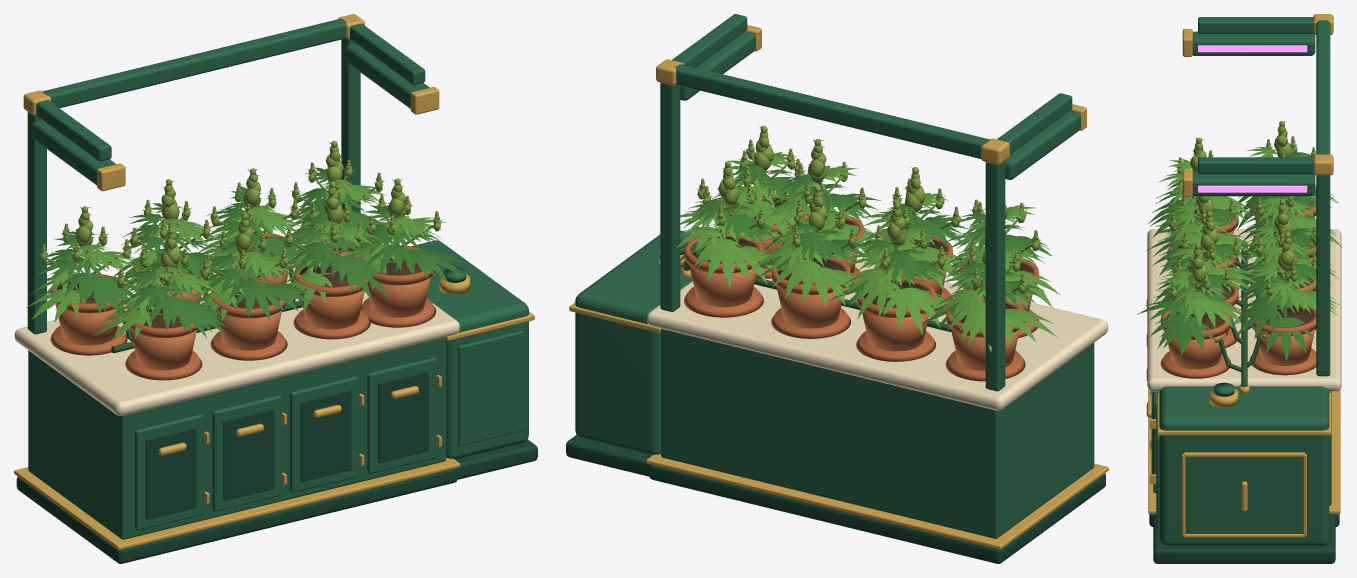
The model's file is grow_bench_tier2.glb.
The picture shows the model from 3 angles, left to right: view 1: azimuth 30°, elevation 25°; view 2: azimuth 150°, elevation 25°; view 3: azimuth 270°, elevation 25°; orthographic projection. The views are drawn at different scales.
Visible parts, largest first — view 1: Body, Top, Tank, TankFront, Plinth, Beam, PlinthBrass, DrawerInset2, DrawerInset0, DrawerInset1, DrawerInset3, Post-1.04 (+34 smaller); view 2: Body, Top, Tank, Plinth, Beam, PlinthBrass, Post-1.04, Post0.60, LightBar-1.04, P3Pot, P2Pot, P1Pot (+18 smaller); view 3: Tank, TankDoor, Top, TankPlinth, Post0.60, LightBar0.60, Arm0.60, LightBar-1.04, Beam, Arm-1.04, PlinthBrass, P7Pot (+39 smaller).
Boxes of the visible parts, x1,y1,x2,y2 form: Body: [28, 337, 446, 539]; Top: [14, 264, 459, 415]; Tank: [411, 240, 528, 459]; TankFront: [458, 331, 523, 446]; Plinth: [16, 468, 457, 563]; Beam: [42, 18, 346, 108]; PlinthBrass: [14, 458, 460, 550]; DrawerInset2: [300, 390, 351, 481]; DrawerInset0: [145, 427, 196, 519]; DrawerInset1: [223, 408, 274, 500]; DrawerInset3: [378, 371, 428, 462]; Post-1.04: [27, 112, 46, 334]; Body: [661, 328, 1094, 538]; Top: [647, 260, 1108, 410]; Tank: [575, 230, 692, 455]; Plinth: [649, 464, 1105, 563]; Beam: [675, 64, 990, 158]; PlinthBrass: [646, 454, 1108, 549]; Post-1.04: [985, 161, 1005, 391]; Post0.60: [660, 82, 680, 311]; LightBar-1.04: [1005, 110, 1080, 179]; P3Pot: [689, 265, 756, 307]; P2Pot: [776, 287, 845, 328]; P1Pot: [862, 311, 928, 351]; Tank: [1159, 386, 1329, 546]; TankDoor: [1185, 457, 1303, 533]; Top: [1147, 229, 1341, 391]; TankPlinth: [1153, 514, 1335, 563]; Post0.60: [1316, 175, 1330, 376]; LightBar0.60: [1192, 172, 1315, 196]; Arm0.60: [1198, 157, 1313, 174]; LightBar-1.04: [1192, 31, 1315, 55]; Beam: [1316, 20, 1330, 154]; Arm-1.04: [1198, 17, 1313, 33]; PlinthBrass: [1148, 389, 1340, 513]; P7Pot: [1167, 332, 1226, 369].
Size of the model in its own units: 2.34 by 1.99 by 1.02.
